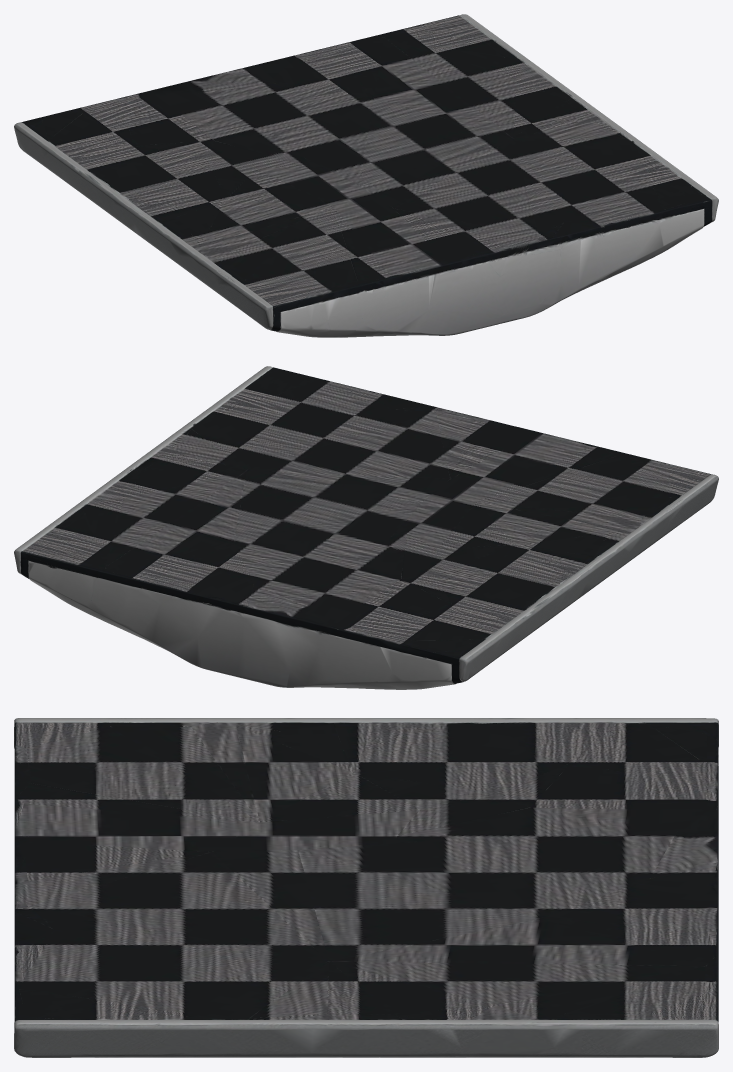
The model's file is board.glb.
The picture shows the model from 3 angles, top to bottom: view 1: azimuth 30°, elevation 25°; view 2: azimuth 150°, elevation 25°; view 3: azimuth 270°, elevation 25°; orthographic projection. The views are drawn at different scales.
Size of the model in its own units: 8.32 by 1.32 by 8.03.
1 material, 1 textured.
